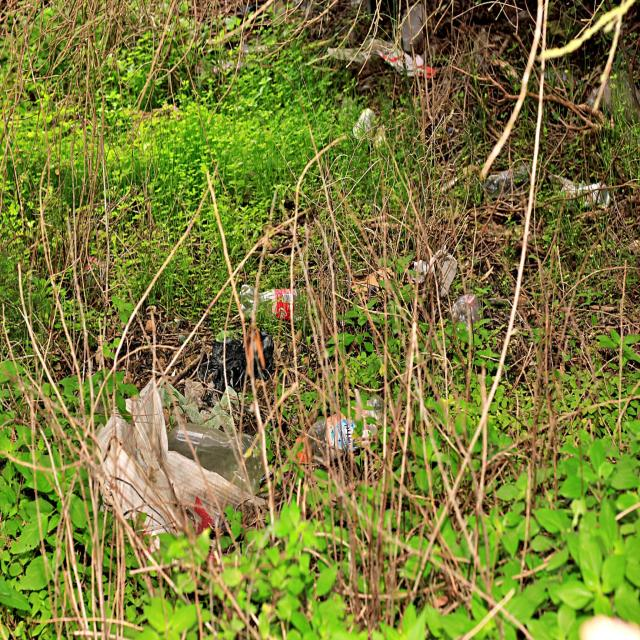Bottle: (170, 421, 266, 494), (295, 394, 386, 471), (240, 283, 319, 323), (549, 176, 610, 208), (482, 161, 535, 197), (451, 293, 484, 332), (352, 108, 378, 142)
Carton: (95, 378, 274, 560)
Other litter: (582, 66, 640, 122), (413, 248, 460, 303), (579, 614, 640, 639)
Other plastic: (328, 2, 438, 82), (184, 326, 274, 418)
